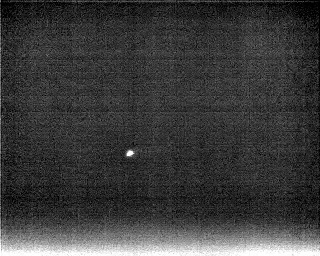BIRD: (124, 147, 136, 160)
